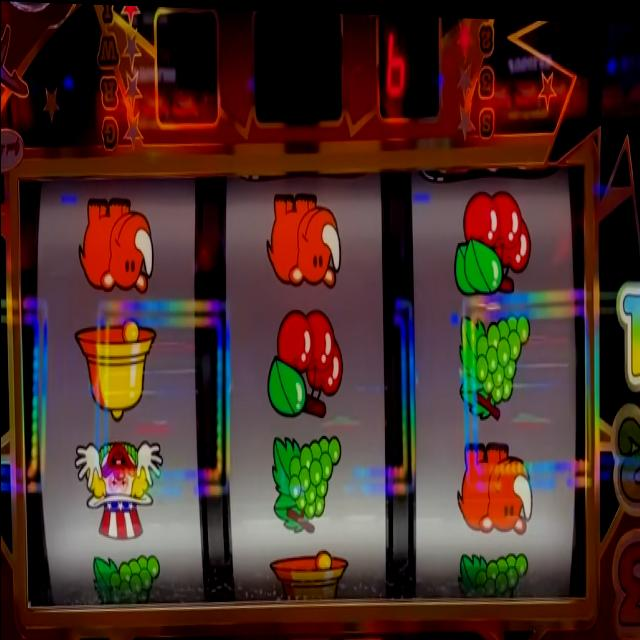cherry: (264, 303, 342, 417), (453, 186, 531, 292), (526, 635, 547, 640)
clown: (73, 425, 164, 542)
display: (14, 156, 586, 620)
elephant: (76, 195, 157, 293), (456, 436, 532, 534), (264, 190, 340, 286)
grape: (458, 303, 530, 417), (272, 424, 342, 538), (454, 542, 530, 594), (90, 549, 162, 603), (412, 634, 434, 640), (388, 636, 412, 640), (432, 637, 457, 640)
